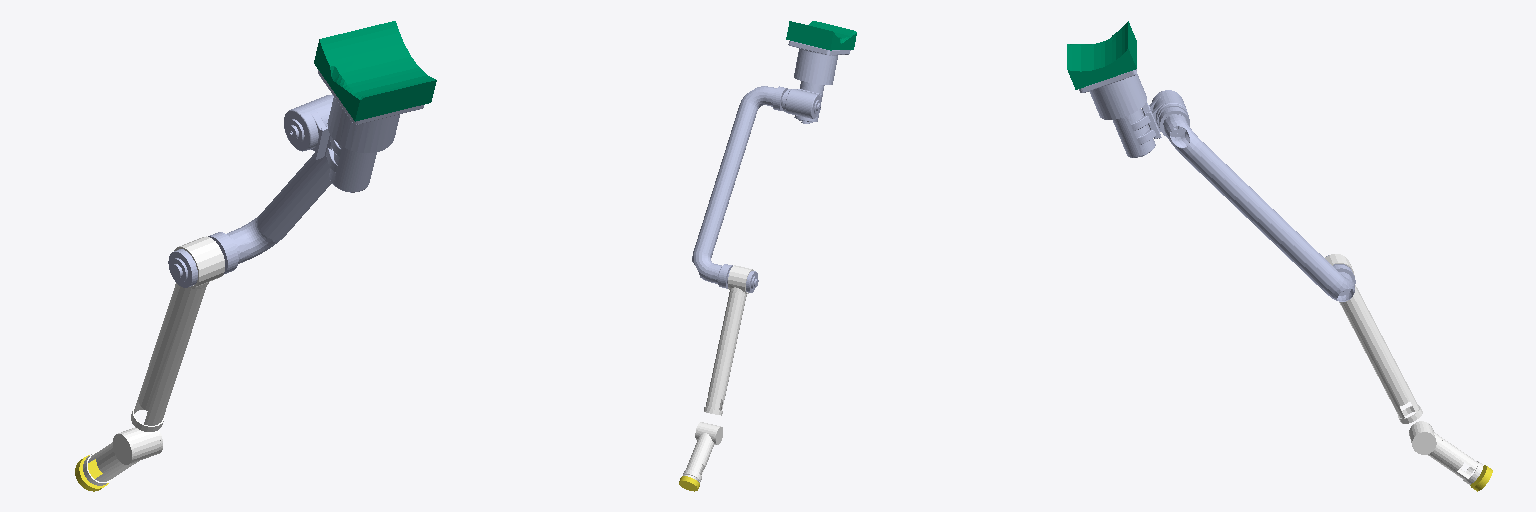
robot.urdf — satellite_6__starlink_sldasm9:
<?xml version='1.0' encoding='utf-8'?>
<robot name="satellite_6__starlink_sldasm9">
  <link name="base_link">
    <visual>
      <geometry>
        <mesh filename="../satellites/satellite_6/satellite.stl" />
      </geometry>
    </visual>
    <collision>
      <geometry>
        <mesh filename="../satellites/satellite_6/satellite.stl" />
      </geometry>
    </collision>
  </link>
  <link name="satellite_6_mount" />
  <joint name="satellite_mount_fixed" type="fixed">
    <parent link="base_link" />
    <child link="satellite_6_mount" />
    <origin xyz="0.24293569051620173 0.1141647029853909 -0.28765164731723913" rpy="-2.779097495272817 -0.00452000544159592 -0.001714223556978478" />
  </joint>
  <link name="mount_support">
    <visual>
      <geometry>
        <mesh filename="../satellites/satellite_6/mount_support.stl" />
      </geometry>
    </visual>
    <collision>
      <geometry>
        <mesh filename="../satellites/satellite_6/mount_support.stl" />
      </geometry>
    </collision>
  </link>
  <joint name="support_fixed" type="fixed">
    <parent link="satellite_6_mount" />
    <child link="mount_support" />
    <origin xyz="0 0 0" rpy="0 0 0" />
  </joint>
  <joint name="arm_adapter_fixed" type="fixed">
    <parent link="satellite_6_mount" />
    <child link="starlink_space_manipulator_base_link" />
    <origin xyz="0.009087204933166504 0.008519247174263 0.16000000119209298" rpy="-1.5707963267948966 0 0.0" />
  </joint>
  <link name="starlink_space_manipulator_base_link">
    <inertial>
      <origin xyz="-0.00908719924946466 0.0225428225681148 -0.00851924929637313" rpy="0 0 0" />
      <mass value="8.66024015898073" />
      <inertia ixx="0.0960303512697639" ixy="1.65511904636803E-18" ixz="6.22039820639877E-19" iyy="0.103454922260914" iyz="-9.68471289978311E-19" izz="0.0960303512697639" />
    </inertial>
    <visual>
      <origin xyz="0 0 0" rpy="0 0 0" />
      <geometry>
        <mesh filename="../arms/starlink_sldasm9/meshes/starlink_space_manipulator_base_link.STL" />
      </geometry>
      <material name="">
        <color rgba="0.792156862745098 0.819607843137255 0.933333333333333 1" />
      </material>
    </visual>
    <collision>
      <origin xyz="0 0 0" rpy="0 0 0" />
      <geometry>
        <mesh filename="../arms/starlink_sldasm9/meshes/starlink_space_manipulator_base_link.STL" />
      </geometry>
    </collision>
  </link>
  <link name="starlink_space_manipulator_Shoulder_link_1">
    <inertial>
      <origin xyz="-0.000399471745595769 -0.100006574194712 -0.17423940484461" rpy="0 0 0" />
      <mass value="5.16309216784981" />
      <inertia ixx="0.0524543852135592" ixy="0.00348154867667969" ixz="6.96526910910627E-05" iyy="0.0306595326318824" iyz="-0.00056674368052247" izz="0.0439979075615329" />
    </inertial>
    <visual>
      <origin xyz="0 0 0" rpy="0 0 0" />
      <geometry>
        <mesh filename="../arms/starlink_sldasm9/meshes/starlink_space_manipulator_Shoulder_link_1.STL" />
      </geometry>
      <material name="">
        <color rgba="0.792156862745098 0.819607843137255 0.933333333333333 1" />
      </material>
    </visual>
    <collision>
      <origin xyz="0 0 0" rpy="0 0 0" />
      <geometry>
        <mesh filename="../arms/starlink_sldasm9/meshes/starlink_space_manipulator_Shoulder_link_1.STL" />
      </geometry>
    </collision>
  </link>
  <joint name="starlink_space_manipulator_Shoulder_link_1_yaw" type="revolute">
    <origin xyz="-0.0090872 -0.065 -0.0085192" rpy="1.5708 -0.15574 3.1416" />
    <parent link="starlink_space_manipulator_base_link" />
    <child link="starlink_space_manipulator_Shoulder_link_1" />
    <axis xyz="0 0 -1" />
    <limit lower="-3.14" upper="3.14" effort="0" velocity="0" />
  </joint>
  <link name="starlink_space_manipulator_Upper_arm_Link_1">
    <inertial>
      <origin xyz="0.402106341472203 -0.696465272634528 -0.170177523085579" rpy="0 0 0" />
      <mass value="5.05309869040685" />
      <inertia ixx="0.388719013133801" ixy="0.210155896498943" ixz="9.30829370680679E-08" iyy="0.146049057575642" iyz="1.71830458004218E-07" izz="0.500677708275447" />
    </inertial>
    <visual>
      <origin xyz="0 0 0" rpy="0 0 0" />
      <geometry>
        <mesh filename="../arms/starlink_sldasm9/meshes/starlink_space_manipulator_Upper_arm_Link_1.STL" />
      </geometry>
      <material name="">
        <color rgba="0.792156862745098 0.819607843137255 0.933333333333333 1" />
      </material>
    </visual>
    <collision>
      <origin xyz="0 0 0" rpy="0 0 0" />
      <geometry>
        <mesh filename="../arms/starlink_sldasm9/meshes/starlink_space_manipulator_Upper_arm_Link_1.STL" />
      </geometry>
    </collision>
  </link>
  <joint name="starlink_space_manipulator_Upper_arm_Link_1_roll" type="revolute">
    <origin xyz="0 -0.2 -0.18" rpy="1.5708 0.90646 1.5708" />
    <parent link="starlink_space_manipulator_Shoulder_link_1" />
    <child link="starlink_space_manipulator_Upper_arm_Link_1" />
    <axis xyz="0 0 -1" />
    <limit lower="-2" upper="1.5" effort="0" velocity="0" />
  </joint>
  <link name="starlink_space_manipulator_Mid_arm_Link_1">
    <inertial>
      <origin xyz="-0.000406052776441013 0.317722269561105 0.0155331755135703" rpy="0 0 0" />
      <mass value="1.57635531881168" />
      <inertia ixx="0.133610363618846" ixy="5.33750993405138E-05" ixz="-3.60473795202962E-09" iyy="0.00502119434334708" iyz="-2.514275749911E-05" izz="0.134586018527477" />
    </inertial>
    <visual>
      <origin xyz="0 0 0" rpy="0 0 0" />
      <geometry>
        <mesh filename="../arms/starlink_sldasm9/meshes/starlink_space_manipulator_Mid_arm_Link_1.STL" />
      </geometry>
      <material name="">
        <color rgba="1 1 1 1" />
      </material>
    </visual>
    <collision>
      <origin xyz="0 0 0" rpy="0 0 0" />
      <geometry>
        <mesh filename="../arms/starlink_sldasm9/meshes/starlink_space_manipulator_Mid_arm_Link_1.STL" />
      </geometry>
    </collision>
  </link>
  <joint name="starlink_space_manipulator_Mid_arm_Link_1_roll" type="revolute">
    <origin xyz="0.599999999999673 -1.03923048454122 0" rpy="-3.14159265358979 0 0.828250280535091" />
    <parent link="starlink_space_manipulator_Upper_arm_Link_1" />
    <child link="starlink_space_manipulator_Mid_arm_Link_1" />
    <axis xyz="0 0 -1" />
    <limit lower="-3.14" upper="3.14" effort="0" velocity="0" />
  </joint>
  <link name="starlink_space_manipulator_Upper_wrist_Link_1">
    <inertial>
      <origin xyz="-0.000400003664721815 -0.201565878030355 -0.00216705855311664" rpy="0 0 0" />
      <mass value="0.994770641034713" />
      <inertia ixx="0.00165409639029414" ixy="-7.59103925411082E-06" ixz="-3.17403155320863E-06" iyy="0.00201437937768072" iyz="2.63246464091218E-06" izz="0.00159638838344539" />
    </inertial>
    <visual>
      <origin xyz="0 0 0" rpy="0 0 0" />
      <geometry>
        <mesh filename="../arms/starlink_sldasm9/meshes/starlink_space_manipulator_Upper_wrist_Link_1.STL" />
      </geometry>
      <material name="">
        <color rgba="0.792156862745098 0.819607843137255 0.933333333333333 1" />
      </material>
    </visual>
    <collision>
      <origin xyz="0 0 0" rpy="0 0 0" />
      <geometry>
        <mesh filename="../arms/starlink_sldasm9/meshes/starlink_space_manipulator_Upper_wrist_Link_1.STL" />
      </geometry>
    </collision>
  </link>
  <joint name="starlink_space_manipulator_Upper_wrist_Link_1_yaw" type="revolute">
    <origin xyz="-0.00050155183276912 0.686793643713439 0.0155010481432086" rpy="0 -0.0763876794035917 3.14159265358979" />
    <parent link="starlink_space_manipulator_Mid_arm_Link_1" />
    <child link="starlink_space_manipulator_Upper_wrist_Link_1" />
    <axis xyz="0 -1 0" />
    <limit lower="-3.14" upper="3.14" effort="0" velocity="0" />
  </joint>
  <link name="starlink_space_manipulator_Upper_wrist_Link_2">
    <inertial>
      <origin xyz="8.45304168883843E-08 0.0848318719623631 -0.00515657391755576" rpy="0 0 0" />
      <mass value="1.03716823037577" />
      <inertia ixx="0.0100970561498589" ixy="1.32295633551837E-09" ixz="-9.43675929999229E-09" iyy="0.00222325407426665" iyz="-2.08772874866187E-06" izz="0.0105840577017538" />
    </inertial>
    <visual>
      <origin xyz="0 0 0" rpy="0 0 0" />
      <geometry>
        <mesh filename="../arms/starlink_sldasm9/meshes/starlink_space_manipulator_Upper_wrist_Link_2.STL" />
      </geometry>
      <material name="">
        <color rgba="1 1 1 1" />
      </material>
    </visual>
    <collision>
      <origin xyz="0 0 0" rpy="0 0 0" />
      <geometry>
        <mesh filename="../arms/starlink_sldasm9/meshes/starlink_space_manipulator_Upper_wrist_Link_2.STL" />
      </geometry>
    </collision>
  </link>
  <joint name="starlink_space_manipulator_Upper_wrist_Link_2_roll" type="revolute">
    <origin xyz="0 -0.30020635628656 0" rpy="-0.0158640776811277 -0.0317448426184613 -2.67805461574742" />
    <parent link="starlink_space_manipulator_Upper_wrist_Link_1" />
    <child link="starlink_space_manipulator_Upper_wrist_Link_2" />
    <axis xyz="0 0 1" />
    <limit lower="-2.5" upper="1.8" effort="0" velocity="0" />
  </joint>
  <link name="starlink__space_manipulator_2F-Body_Link">
    </link>
  <joint name="starlink__space_manipulator_2F-Body_Link_yaw" type="revolute">
    <origin xyz="0 0.34845 -0.0053813" rpy="-3.1416 0.93592 0" />
    <parent link="starlink_space_manipulator_Upper_wrist_Link_2" />
    <child link="starlink__space_manipulator_2F-Body_Link" />
    <axis xyz="0 -1 0" />
    <limit lower="-3.14" upper="3.14" effort="0" velocity="0" />
  </joint>
  <link name="angular_hand">
    <visual>
      <geometry>
        <mesh filename="../arms/starlink_sldasm9/meshes/hand_2finger.STL" scale="2 2 2" />
      </geometry>
    </visual>
    <collision>
      <geometry>
        <mesh filename="../arms/starlink_sldasm9/meshes/hand_2finger.STL" scale="2 2 2" />
      </geometry>
    </collision>
  </link>
  <joint name="angular_hand_fixed" type="fixed">
    <parent link="starlink__space_manipulator_2F-Body_Link" />
    <child link="angular_hand" />
    <origin xyz="0 -0.036 0" rpy="-1.5707963267948966 0 0" />
  </joint>
  <link name="angular_adapter">
    <visual>
      <geometry>
        <mesh filename="../arms/starlink_sldasm9/meshes/angular_adapter.stl" />
      </geometry>
    </visual>
    <collision>
      <geometry>
        <mesh filename="../arms/starlink_sldasm9/meshes/angular_adapter.stl" />
      </geometry>
    </collision>
  </link>
  <joint name="angular_adapter_fixed" type="fixed">
    <parent link="starlink__space_manipulator_2F-Body_Link" />
    <child link="angular_adapter" />
    <origin xyz="0 -0.0005 0" rpy="1.5707963267948966 0 0" />
  </joint>
  <link name="angular_finger_1">
    <visual>
      <geometry>
        <mesh filename="../arms/starlink_sldasm9/meshes/finger_proximal.STL" scale="2 2 2" />
      </geometry>
    </visual>
    <collision>
      <geometry>
        <mesh filename="../arms/starlink_sldasm9/meshes/finger_proximal.STL" scale="2 2 2" />
      </geometry>
    </collision>
  </link>
  <link name="angular_tip_1">
    <visual>
      <geometry>
        <mesh filename="../arms/starlink_sldasm9/meshes/finger_distal.STL" scale="2 2 2" />
      </geometry>
    </visual>
    <collision>
      <geometry>
        <mesh filename="../arms/starlink_sldasm9/meshes/finger_distal.STL" scale="2 2 2" />
      </geometry>
    </collision>
  </link>
  <joint name="angular_joint_1" type="revolute">
    <parent link="angular_hand" />
    <child link="angular_finger_1" />
    <axis xyz="0 0 1" />
    <origin xyz="-0.005 0.0619 -0.22964" rpy="-1.570796327 .649262481663582 1.5707963267948966" />
    <limit lower="0" upper="1.51" effort="2" velocity="1" />
  </joint>
  <joint name="angular_joint_tip_1" type="revolute">
    <parent link="angular_finger_1" />
    <child link="angular_tip_1" />
    <axis xyz="0 0 1" />
    <origin xyz="0.088 -0.006 0.0" rpy="0 0 0" />
    <limit lower="0" upper="2" effort="2" velocity="1" />
  </joint>
  <link name="angular_finger_2">
    <visual>
      <geometry>
        <mesh filename="../arms/starlink_sldasm9/meshes/finger_proximal.STL" scale="2 2 2" />
      </geometry>
    </visual>
    <collision>
      <geometry>
        <mesh filename="../arms/starlink_sldasm9/meshes/finger_proximal.STL" scale="2 2 2" />
      </geometry>
    </collision>
  </link>
  <link name="angular_tip_2">
    <visual>
      <geometry>
        <mesh filename="../arms/starlink_sldasm9/meshes/finger_distal.STL" scale="2 2 2" />
      </geometry>
    </visual>
    <collision>
      <geometry>
        <mesh filename="../arms/starlink_sldasm9/meshes/finger_distal.STL" scale="2 2 2" />
      </geometry>
    </collision>
  </link>
  <joint name="angular_joint_2" type="revolute">
    <parent link="angular_hand" />
    <child link="angular_finger_2" />
    <axis xyz="0 0 1" />
    <origin xyz="-0.005 -0.0619 -0.22964" rpy="-1.570796327 .649262481663582 -1.5707963267948966" />
    <limit lower="0" upper="1.51" effort="2" velocity="1" />
  </joint>
  <joint name="angular_joint_tip_2" type="revolute">
    <parent link="angular_finger_2" />
    <child link="angular_tip_2" />
    <axis xyz="0 0 1" />
    <origin xyz="0.088 -0.006 0.0" rpy="0 0 0" />
    <limit lower="0" upper="2" effort="2" velocity="1" />
  </joint>
  <link name="angular_tcp" />
  <joint name="angular_tcp_fixed" type="fixed">
    <parent link="angular_hand" />
    <child link="angular_tcp" />
    <origin xyz="-0.005 0 -0.34" rpy="3.141592653589793 0 0" />
  </joint>
</robot>

--- What the picture shows (computed from the rendered views, not written in the file) ---
Views: 3 orthographic renders of the robot side by side, from view 1: azimuth 30°, elevation 25°; view 2: azimuth 150°, elevation 25°; view 3: azimuth 270°, elevation 25°.
Model satellite_6__starlink_sldasm9 with 17 links and 16 joints (10 revolute, 6 fixed), rooted at base_link, posed every joint at zero.
Visible links, largest first — view 1: mount_support, starlink_space_manipulator_Mid_arm_Link_1, starlink_space_manipulator_Upper_arm_Link_1, starlink_space_manipulator_Shoulder_link_1, starlink_space_manipulator_base_link, starlink_space_manipulator_Upper_wrist_Link_2; view 2: starlink_space_manipulator_Upper_arm_Link_1, starlink_space_manipulator_Mid_arm_Link_1, starlink_space_manipulator_base_link, mount_support, starlink_space_manipulator_Shoulder_link_1, starlink_space_manipulator_Upper_wrist_Link_2; view 3: starlink_space_manipulator_Upper_arm_Link_1, starlink_space_manipulator_Mid_arm_Link_1, mount_support, starlink_space_manipulator_Shoulder_link_1, starlink_space_manipulator_base_link, starlink_space_manipulator_Upper_wrist_Link_2.
Boxes of the visible links, x1,y1,x2,y2 form: mount_support: (314,21,436,121); starlink_space_manipulator_Mid_arm_Link_1: (131,236,224,431); starlink_space_manipulator_Upper_arm_Link_1: (168,131,331,287); starlink_space_manipulator_Shoulder_link_1: (284,94,376,192); starlink_space_manipulator_base_link: (318,70,423,152); starlink_space_manipulator_Upper_wrist_Link_2: (83,427,162,485); starlink_space_manipulator_Upper_arm_Link_1: (692,86,820,292); starlink_space_manipulator_Mid_arm_Link_1: (704,265,753,415); starlink_space_manipulator_base_link: (788,41,850,84); mount_support: (786,21,856,50); starlink_space_manipulator_Shoulder_link_1: (773,81,824,123); starlink_space_manipulator_Upper_wrist_Link_2: (683,422,722,482); starlink_space_manipulator_Upper_arm_Link_1: (1163,114,1355,301); starlink_space_manipulator_Mid_arm_Link_1: (1325,254,1422,423); mount_support: (1067,21,1136,89); starlink_space_manipulator_Shoulder_link_1: (1113,90,1189,157); starlink_space_manipulator_base_link: (1079,69,1146,119); starlink_space_manipulator_Upper_wrist_Link_2: (1409,421,1482,484).
Bounding box of the posed robot: 0.5189 × 2.08 × 2.51 m (x, y, z).
Meshes: 12 distinct files referenced, 7 mesh visuals loaded (7 binary STL); not drawn: 7 (reference not matched to a file when rendering).
